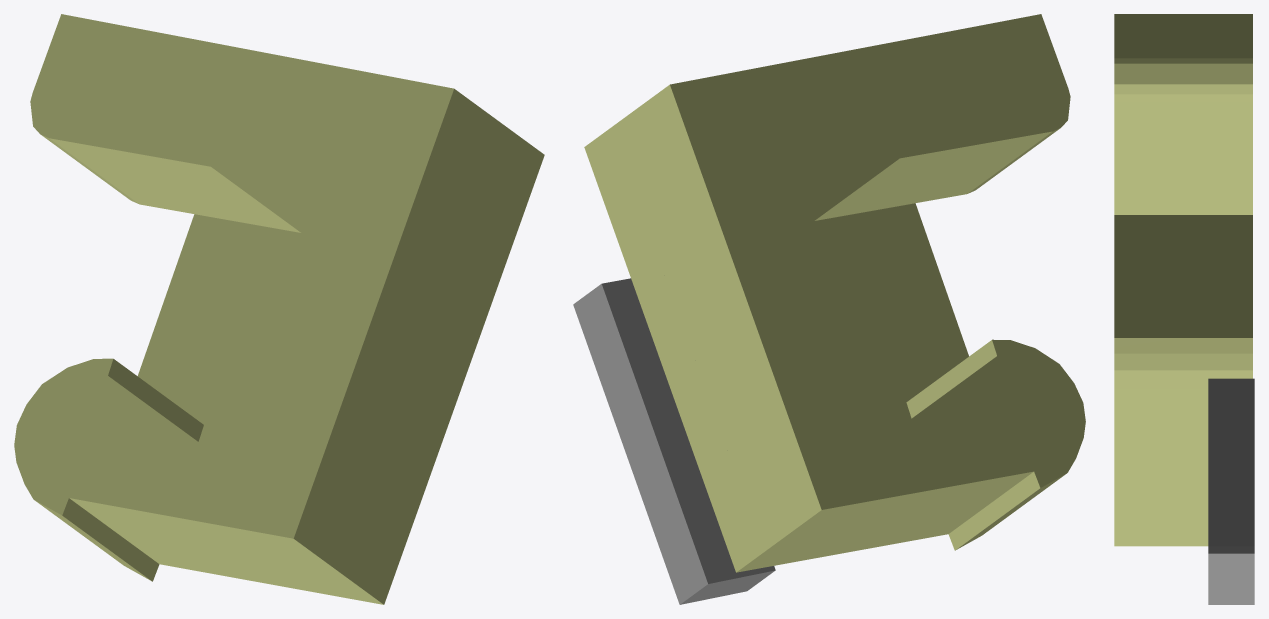
3 views of the same model, side by side, from view 1: azimuth 30°, elevation 25°; view 2: azimuth 150°, elevation 25°; view 3: azimuth 270°, elevation 25° (orthographic). The views are drawn at different scales.
Parts seen in each view (by area): view 1: 0_0_3_1_3_2_1_0_0; view 2: 0_0_3_1_3_2_1_0_0; view 3: 0_0_3_1_3_2_1_0_0.
Part boxes in pixels (x1,y1,x2,y2): 0_0_3_1_3_2_1_0_0: (14,14,544,604); 0_0_3_1_3_2_1_0_0: (573,14,1085,604); 0_0_3_1_3_2_1_0_0: (1114,14,1254,604).
Size of the model in its own units: 25.87 by 34.5 by 9.1.
